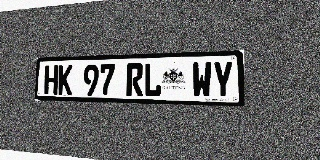7: (99, 64, 115, 96)
9: (83, 64, 99, 96)
H: (44, 65, 58, 95)
K: (58, 65, 72, 95)
L: (144, 63, 161, 97)
R: (126, 63, 143, 96)
W: (192, 62, 212, 98)
Y: (212, 61, 233, 98)
